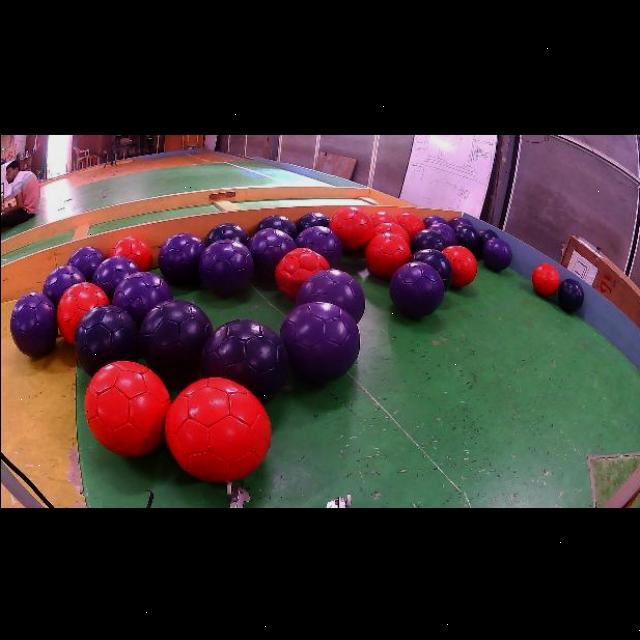B: (200, 317, 287, 402), (139, 298, 212, 386), (73, 303, 138, 375), (412, 247, 453, 289), (204, 221, 248, 245), (256, 214, 297, 238), (409, 228, 448, 252), (557, 277, 584, 311), (453, 221, 479, 252), (295, 210, 330, 230), (478, 226, 497, 253)
P: (279, 301, 360, 381), (296, 268, 365, 321), (110, 269, 173, 325), (197, 237, 253, 294), (9, 291, 57, 355), (390, 260, 444, 316), (247, 226, 296, 277), (157, 232, 205, 282), (91, 254, 139, 301), (295, 224, 342, 265), (42, 264, 86, 306), (66, 245, 104, 279), (482, 237, 512, 269), (429, 221, 457, 243), (423, 214, 448, 226), (448, 215, 473, 226)
R: (165, 377, 270, 481), (83, 360, 170, 455), (56, 281, 109, 343), (274, 246, 330, 297), (365, 230, 410, 277), (329, 204, 374, 249), (108, 234, 152, 269), (442, 243, 477, 285), (396, 211, 425, 238), (374, 221, 409, 243), (370, 210, 397, 225)
